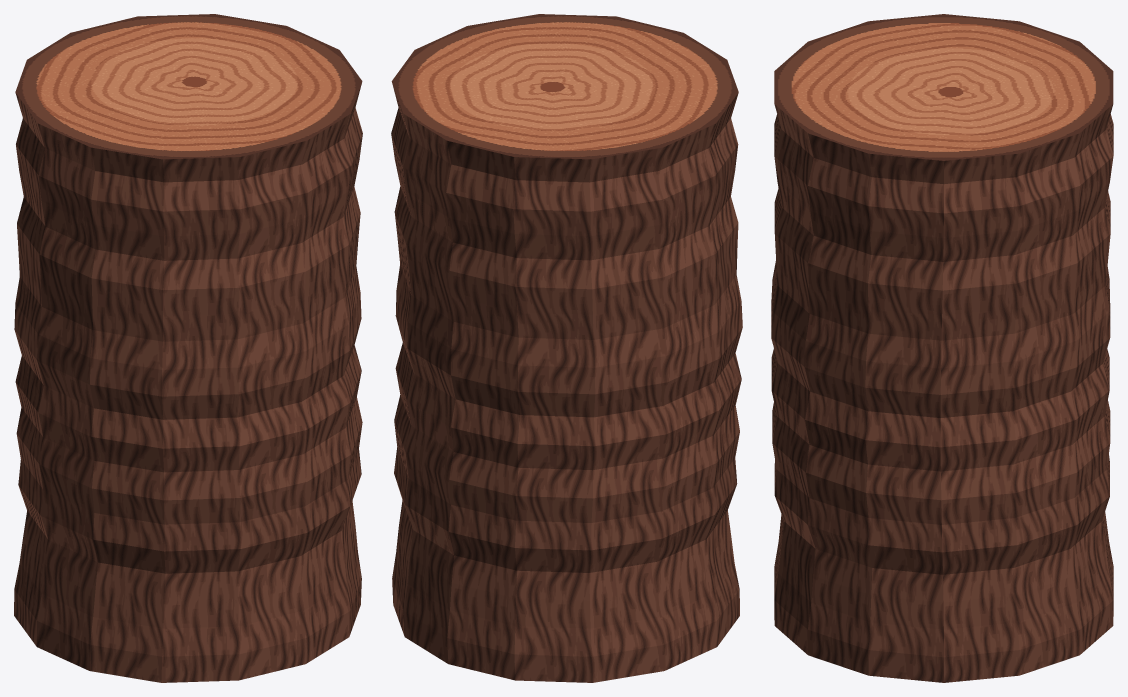
Rendered from environment_redwood3_loghalf_v2.fbx.
3 views of the same model, side by side, from view 1: azimuth 30°, elevation 25°; view 2: azimuth 150°, elevation 25°; view 3: azimuth 270°, elevation 25° (orthographic).
Parts seen in each view (by area): view 1: environment_redwood3_loghalf_v2; view 2: environment_redwood3_loghalf_v2; view 3: environment_redwood3_loghalf_v2.
Part boxes in pixels (x1,y1,x2,y2): environment_redwood3_loghalf_v2: (14, 14, 362, 682); environment_redwood3_loghalf_v2: (391, 14, 742, 682); environment_redwood3_loghalf_v2: (771, 14, 1113, 682).
Size of the model in its own units: 609 by 1000 by 594.
